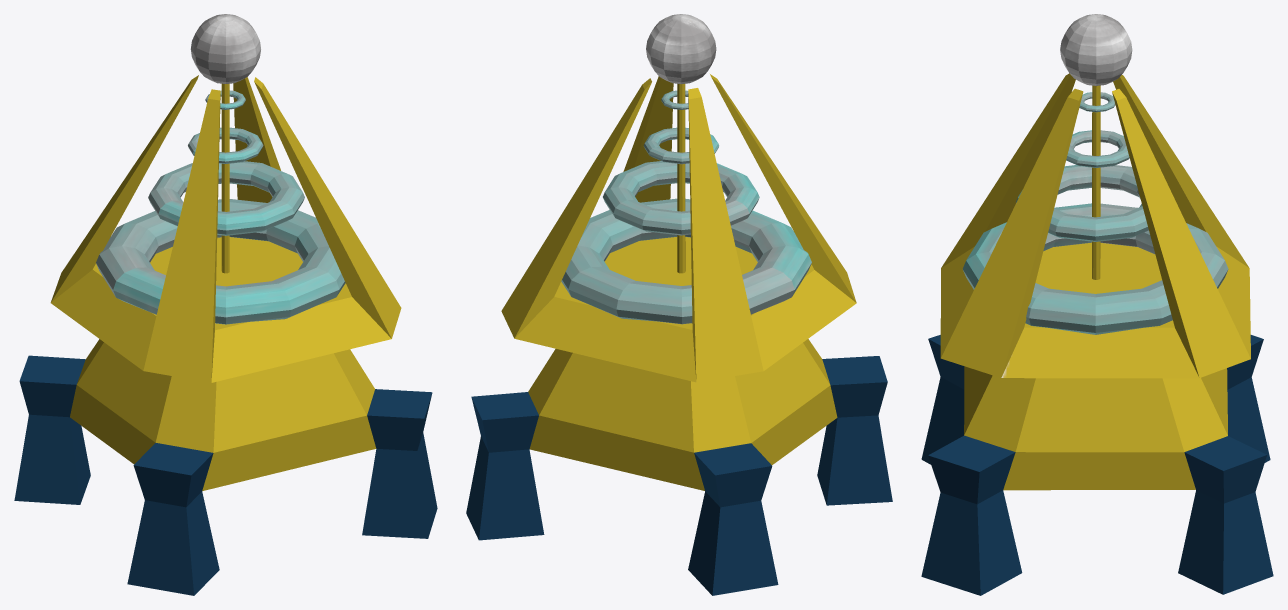
Rendered from Tour tesla.fbx.
3 renders of one model, left to right at view 1: azimuth 30°, elevation 25°; view 2: azimuth 150°, elevation 25°; view 3: azimuth 270°, elevation 25°, orthographic. The views are drawn at different scales.
Parts seen in each view (by area): view 1: Tour 1; view 2: Tour 1; view 3: Tour 1.
Boxes of the visible parts, left/top/right/bottom form: Tour 1: left=14, top=14, right=437, bottom=595; Tour 1: left=466, top=14, right=892, bottom=595; Tour 1: left=921, top=14, right=1273, bottom=595.
Bounding box in the file's own units: 25.53 × 38.36 × 24.44.
